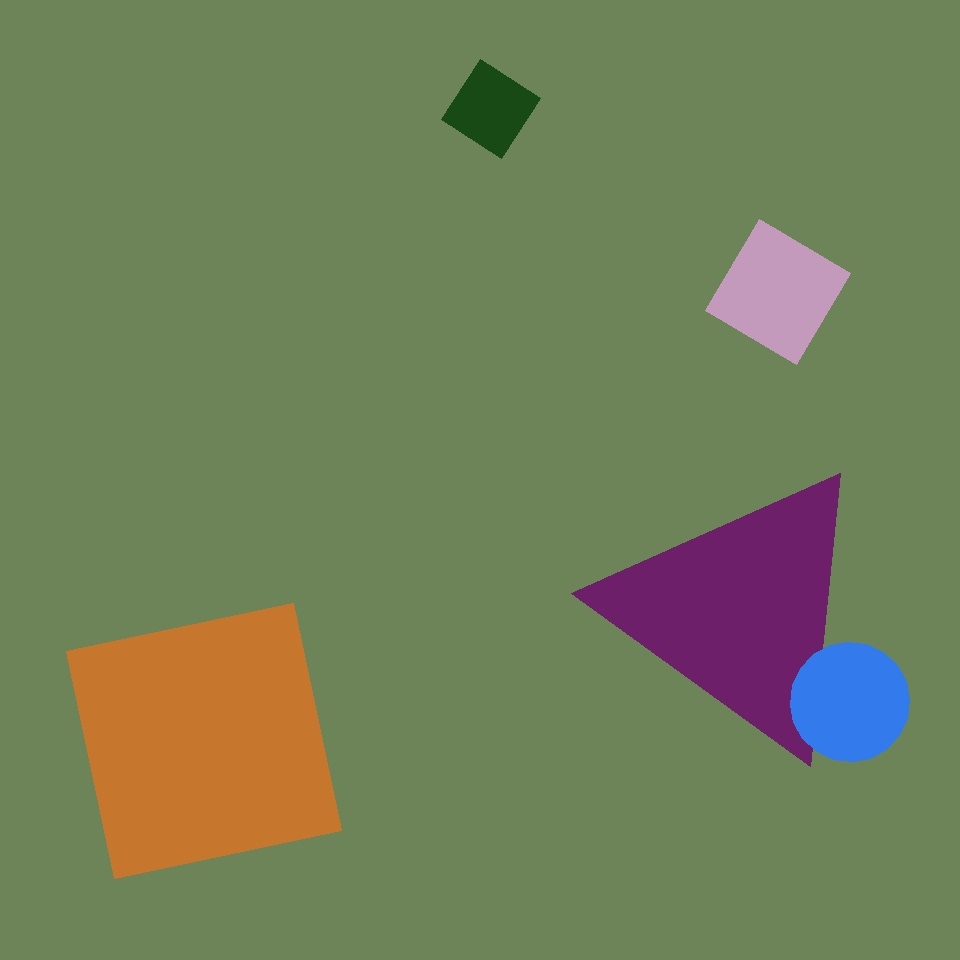circle: (606, 464, 876, 758), (531, 200, 767, 407)
square: (66, 604, 342, 878), (706, 220, 850, 364), (765, 658, 901, 794), (442, 60, 540, 158)
triangle: (790, 642, 910, 762)
